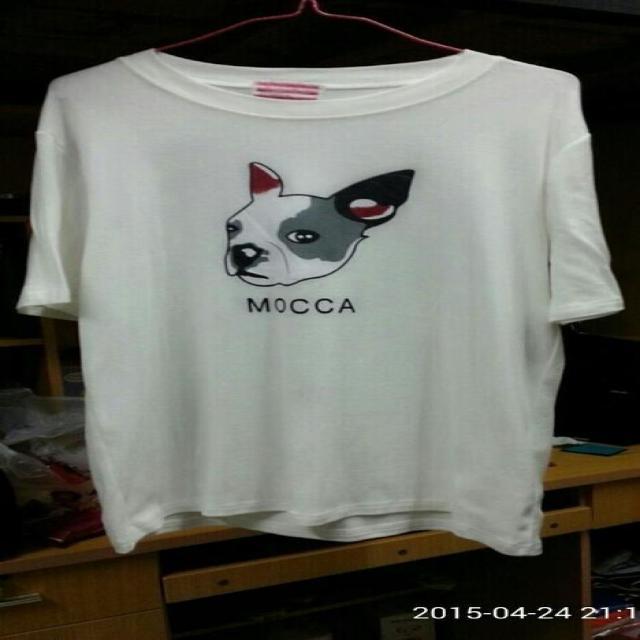long sleeve dress: (21, 51, 619, 553)
